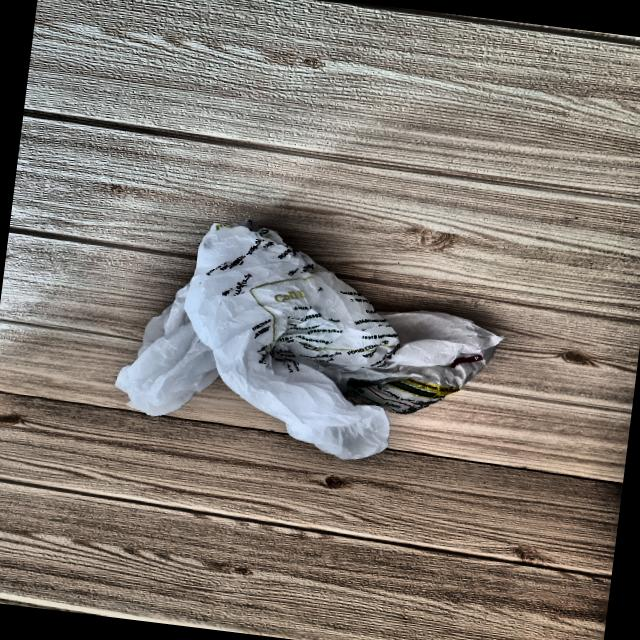plastic bag: (96, 208, 507, 470)
